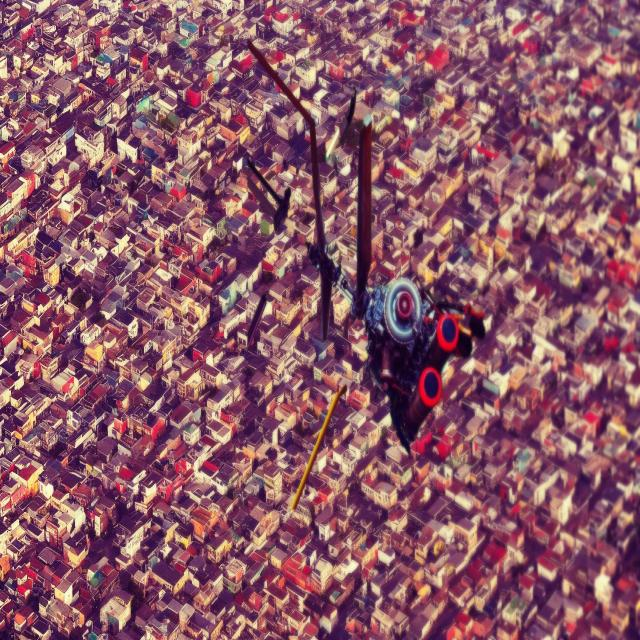airplane: (246, 43, 487, 512)
